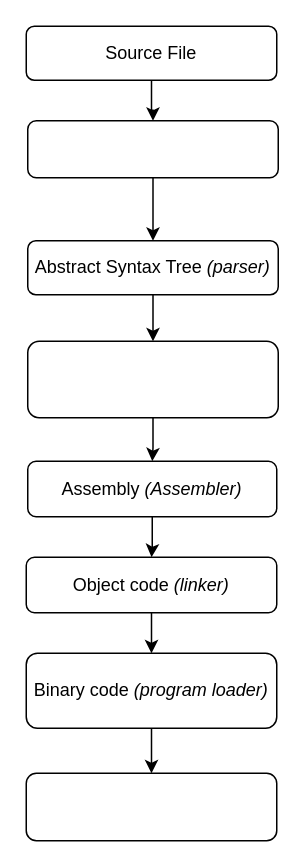
This 305x867 diagram has some shape labels left out. The centre of each missing label's shape, as x and y in pixels:
"Executable code (runtime)" goes at (x=151, y=806).
"Intermediate Languages/ representations" goes at (x=152, y=379).
"Tokens (Lexer)" goes at (x=152, y=148).
